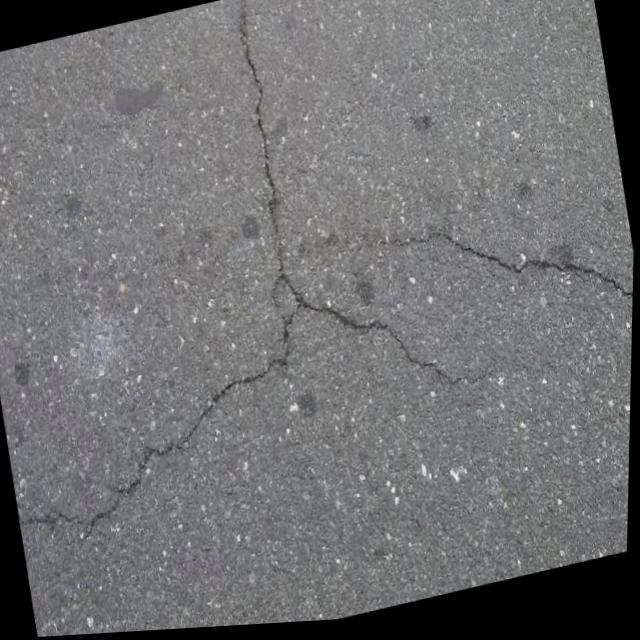Crack: (0, 273, 458, 562), (387, 175, 636, 374), (215, 0, 316, 332)
